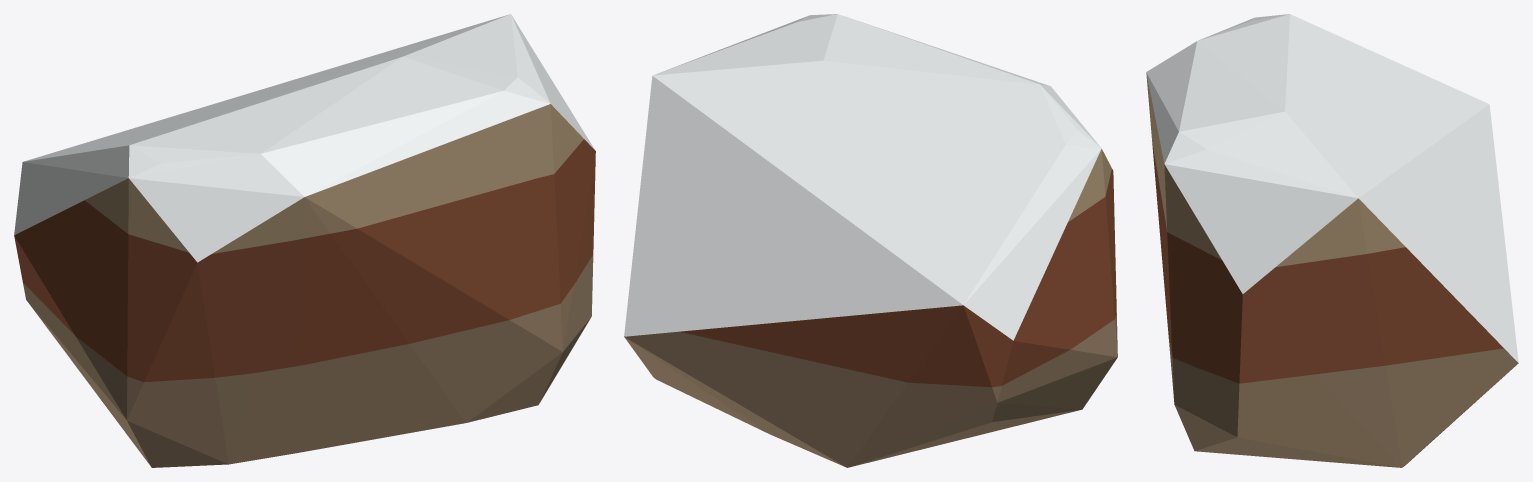
File: WH_BoulderSnow.glb
The picture shows the model from 3 angles, left to right: view 1: azimuth 30°, elevation 25°; view 2: azimuth 150°, elevation 25°; view 3: azimuth 270°, elevation 25°; orthographic projection. The views are drawn at different scales.
Visible parts, largest first — view 1: WH_BoulderSnow; view 2: WH_BoulderSnow; view 3: WH_BoulderSnow.
Boxes of the visible parts, x1=… form: WH_BoulderSnow: x1=14, y1=14, x2=595, y2=467; WH_BoulderSnow: x1=624, y1=14, x2=1117, y2=467; WH_BoulderSnow: x1=1146, y1=14, x2=1518, y2=467.
Size of the model in its own units: 1.61 by 1.09 by 1.21.
